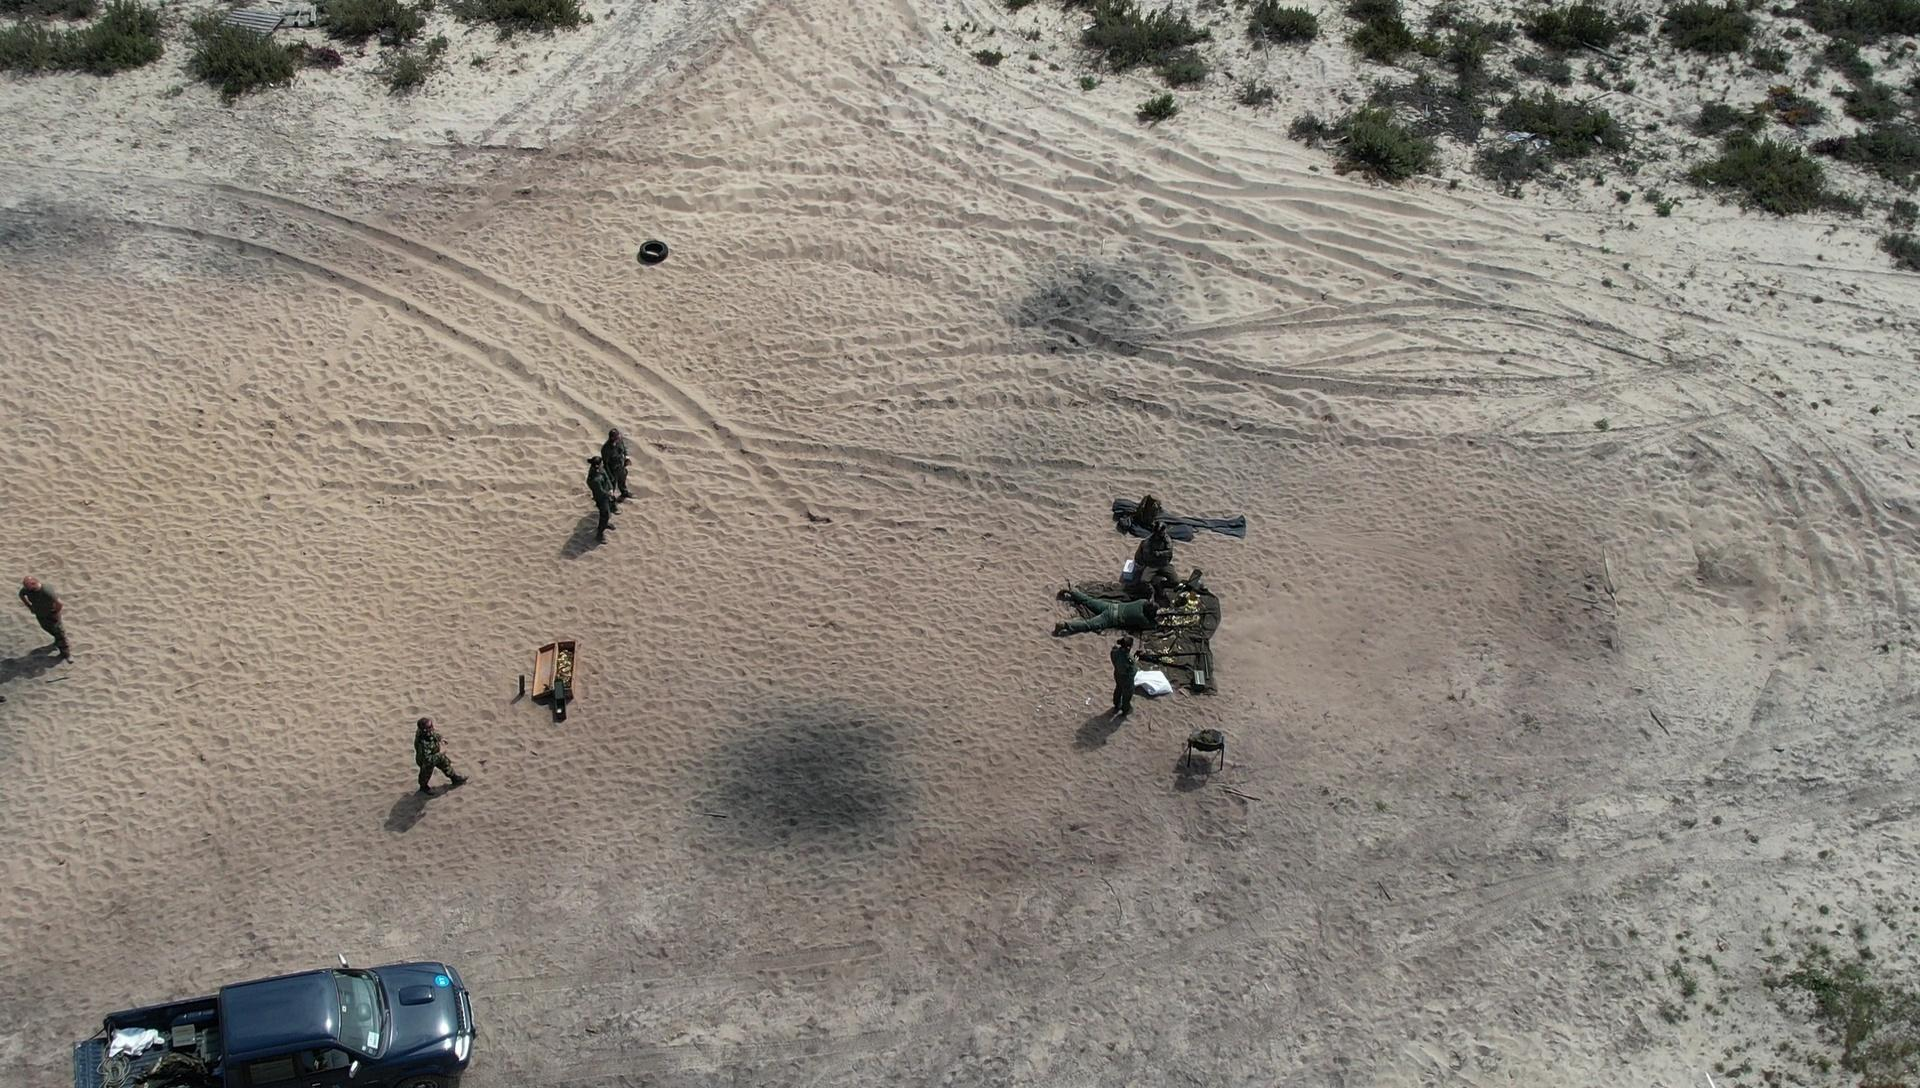Soldier: (1062, 575, 1191, 644), (5, 571, 83, 680), (394, 711, 465, 826), (588, 433, 629, 538), (1109, 630, 1149, 728), (589, 433, 634, 518), (1129, 537, 1180, 611)
